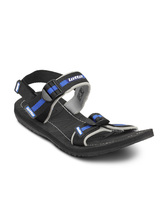shoes: (14, 67, 158, 156)
